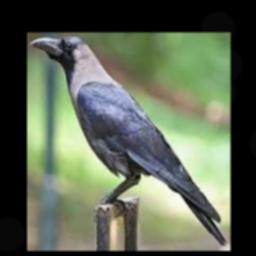Crow: (29, 37, 226, 247)
